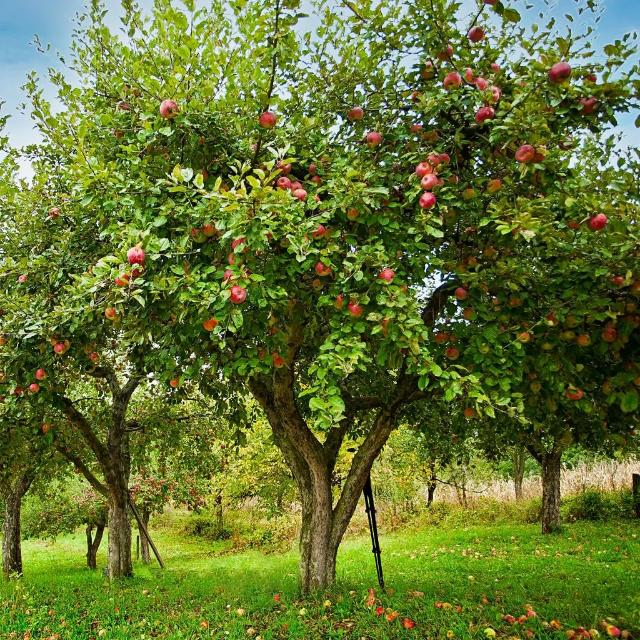Apple: (276, 176, 308, 201), (549, 61, 571, 83), (159, 99, 179, 119), (126, 246, 144, 266), (515, 144, 535, 162), (475, 106, 495, 123), (588, 214, 608, 231), (444, 71, 462, 89), (229, 285, 246, 304), (259, 111, 276, 129), (419, 192, 436, 209), (421, 174, 439, 190), (415, 161, 432, 177), (468, 26, 484, 42), (365, 131, 382, 146), (348, 106, 364, 121), (315, 261, 331, 276), (379, 268, 395, 282), (54, 342, 69, 355), (349, 302, 362, 316), (35, 369, 48, 381), (455, 288, 468, 300), (40, 344, 42, 352)
